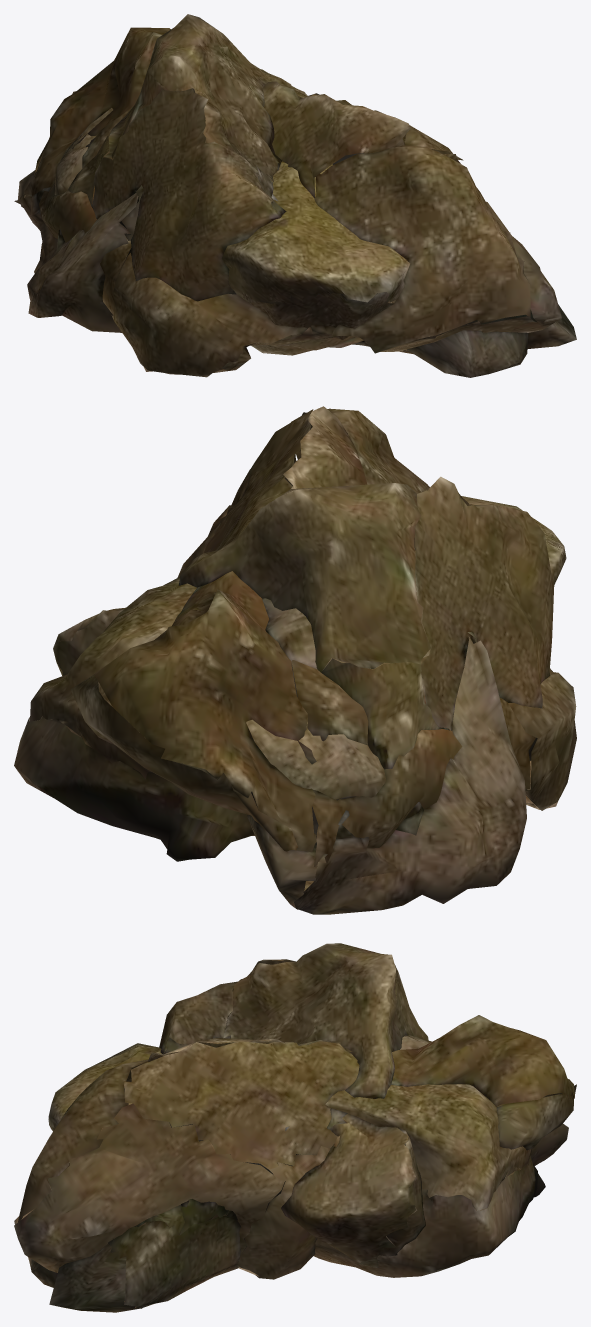
The model's file is mossrock.glb.
The picture shows the model from 3 angles, top to bottom: view 1: azimuth 30°, elevation 25°; view 2: azimuth 150°, elevation 25°; view 3: azimuth 270°, elevation 25°; orthographic projection. The views are drawn at different scales.
Visible parts, largest first — view 1: mossrock_v1_lod0, mossrock_v3_lod0, mossrock_v0_lod0, mossrock_v2_lod0; view 2: mossrock_v1_lod0, mossrock_v3_lod0, mossrock_v2_lod0, mossrock_v0_lod0; view 3: mossrock_v1_lod0, mossrock_v3_lod0, mossrock_v0_lod0, mossrock_v2_lod0.
Part boxes in pixels (box(x1,y1,x2,y2)): mossrock_v1_lod0: box(24, 27, 561, 377); mossrock_v3_lod0: box(56, 14, 319, 301); mossrock_v0_lod0: box(54, 69, 410, 355); mossrock_v2_lod0: box(14, 109, 576, 377); mossrock_v1_lod0: box(70, 406, 576, 866); mossrock_v3_lod0: box(53, 476, 554, 835); mossrock_v2_lod0: box(247, 555, 526, 914); mossrock_v0_lod0: box(14, 496, 566, 861); mossrock_v1_lod0: box(14, 1015, 576, 1279); mossrock_v3_lod0: box(159, 943, 432, 1268); mossrock_v0_lod0: box(48, 1043, 545, 1277); mossrock_v2_lod0: box(28, 1035, 568, 1312).
Size of what is drawn, in the model's own units: 2.65 by 1.78 by 3.39.
Materials: 4 (4 with a texture image).
